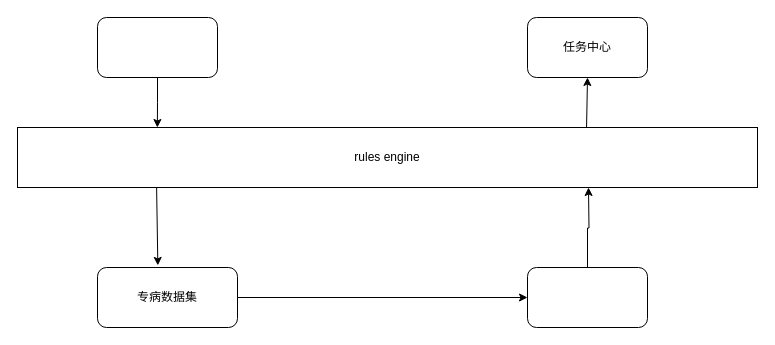
This 775x345 diagram has some shape labels left out. Each missing label, with the centre of its shape:
"原始数据" belongs at point (157, 47).
"引擎驱动表" belongs at point (587, 297).
